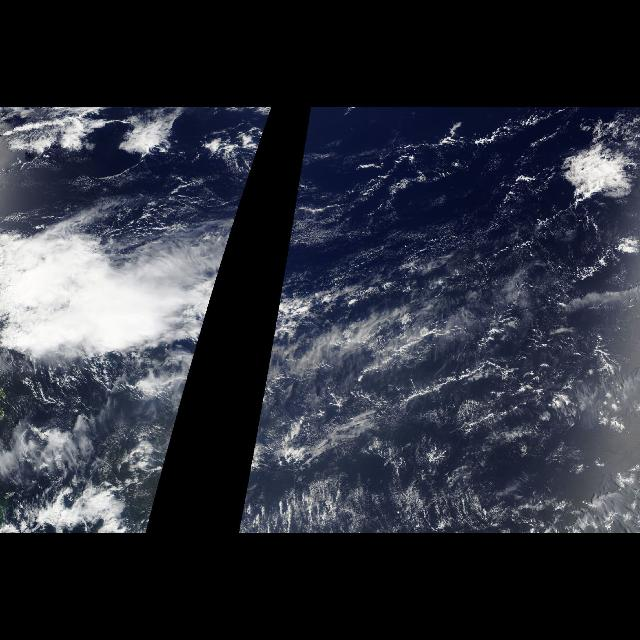Gravel: (355, 320, 615, 520), (4, 116, 256, 212)
Sugar: (290, 322, 640, 532), (281, 109, 547, 279)
